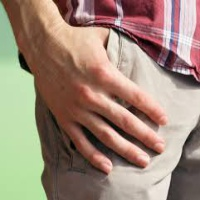ring: (80, 106, 148, 167)
